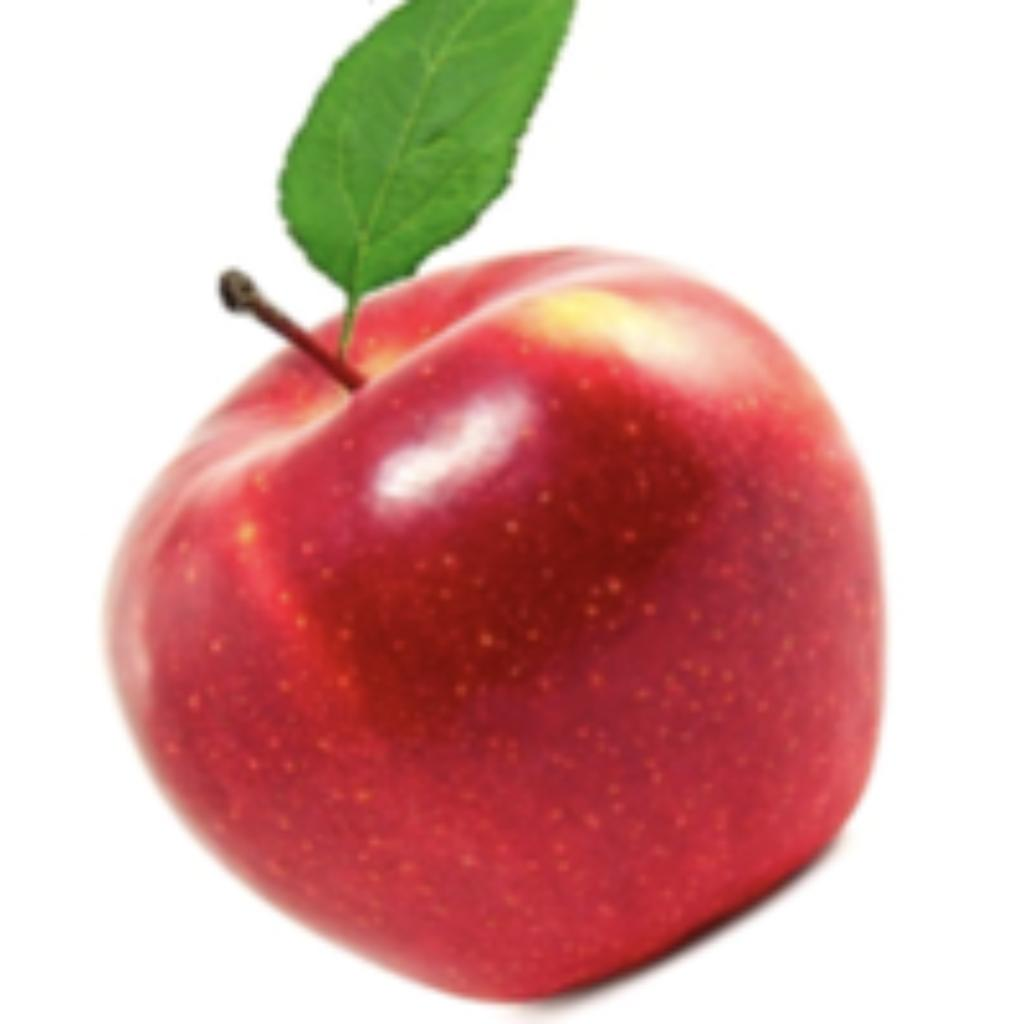apple: (92, 0, 891, 1019)
